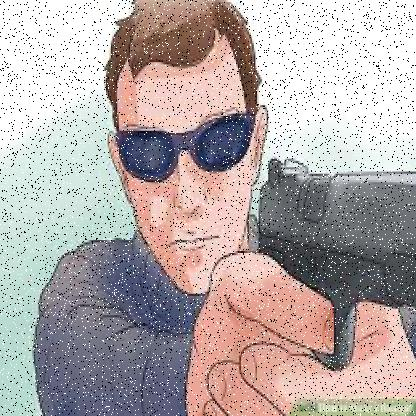pistol: (255, 152, 414, 377)
